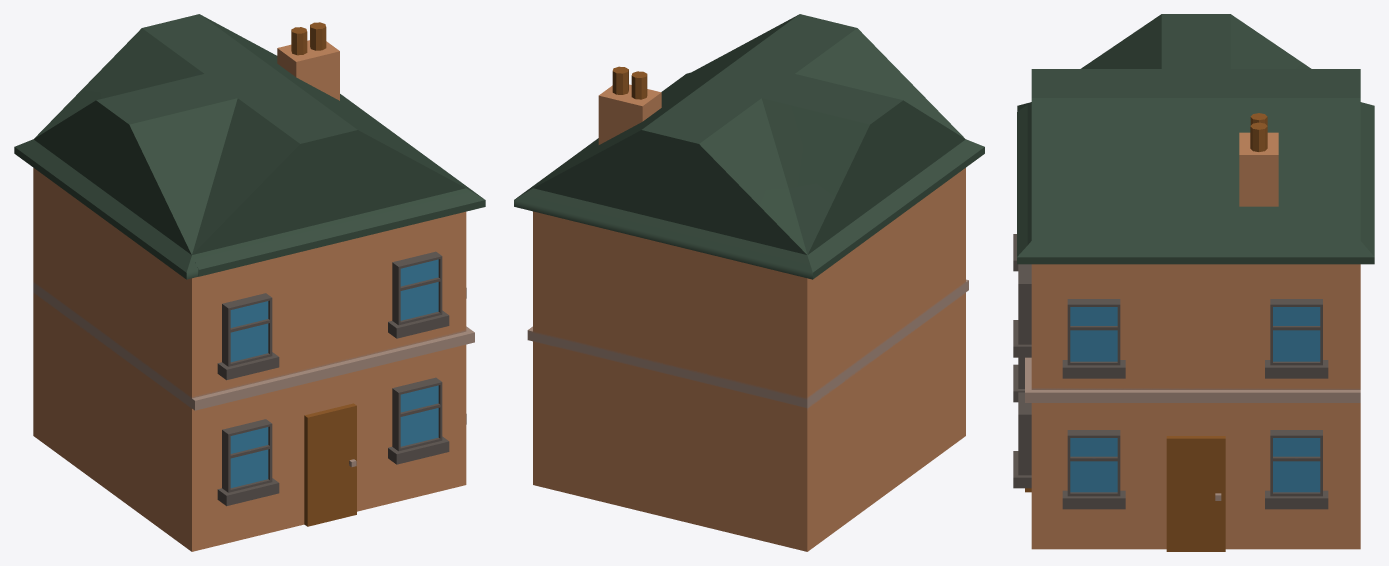
The model's file is sm_londonBuilding_grp 1.fbx.
3 views of the same model, side by side, from view 1: azimuth 30°, elevation 25°; view 2: azimuth 150°, elevation 25°; view 3: azimuth 270°, elevation 25° (orthographic). The views are drawn at different scales.
Visible parts, largest first — view 1: houseUpperCorner_GEO7, bottonPartHouse_GEO7, cornerRoof_GEO7, twoWayRoof_GEO5, houseUpper_GEO5, endRoof_GEO1, endRoof_GEO3, door_GEO4, window_GEO8, window_GEO5, window_GEO6, window_GEO7 (+1 smaller); view 2: bottonPartHouse_GEO7, houseUpperCorner_GEO7, cornerRoof_GEO7, houseUpper_GEO5, twoWayRoof_GEO5, endRoof_GEO1, endRoof_GEO3, chimmey_GEO7; view 3: houseUpperCorner_GEO7, cornerRoof_GEO7, bottonPartHouse_GEO7, twoWayRoof_GEO5, endRoof_GEO3, endRoof_GEO1, houseUpper_GEO5, door_GEO3, window_GEO1, window_GEO4, window_GEO2, window_GEO3 (+4 smaller).
Part boxes in pixels (x1,y1,x2,y2): houseUpperCorner_GEO7: (33,168,474,410); bottonPartHouse_GEO7: (33,292,466,551); cornerRoof_GEO7: (33,14,485,276); twoWayRoof_GEO5: (21,14,465,274); houseUpper_GEO5: (33,169,466,407); endRoof_GEO1: (14,59,464,254); endRoof_GEO3: (21,15,471,279); door_GEO4: (304,403,356,526); window_GEO8: (217,419,279,506); window_GEO5: (217,293,279,380); window_GEO6: (388,251,449,338); window_GEO7: (388,377,449,464); bottonPartHouse_GEO7: (533,292,965,551); houseUpperCorner_GEO7: (527,168,968,408); cornerRoof_GEO7: (522,60,965,254); houseUpper_GEO5: (528,168,965,406); twoWayRoof_GEO5: (605,14,977,274); endRoof_GEO1: (514,16,916,279); endRoof_GEO3: (570,58,984,273); chimmey_GEO7: (598,66,661,144); houseUpperCorner_GEO7: (1025,264,1360,402); cornerRoof_GEO7: (1017,14,1360,264); bottonPartHouse_GEO7: (1031,403,1360,549); twoWayRoof_GEO5: (1031,69,1360,223); endRoof_GEO3: (1017,69,1360,244); endRoof_GEO1: (1031,69,1374,264); houseUpper_GEO5: (1031,264,1360,402); door_GEO3: (1166,436,1225,551); window_GEO1: (1062,430,1125,509); window_GEO4: (1062,299,1125,378); window_GEO2: (1265,430,1328,509); window_GEO3: (1265,299,1328,378).
Bounding box in the file's own units: 5.5 × 6.76 × 5.5.
Materials: 1 (1 with a texture image).
